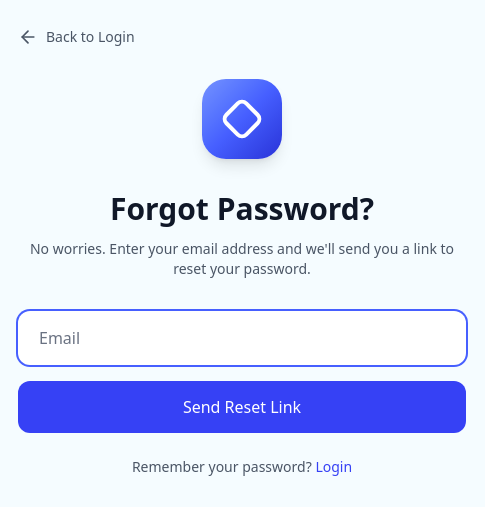
Test case: Forgot password: the form › shows the server’s reason when the request fails
The image size is (485, 507).
Type "coach@example.com" into the field named "Email address".
click(242, 338); type("coach@example.com")  # box [18, 311, 466, 365]
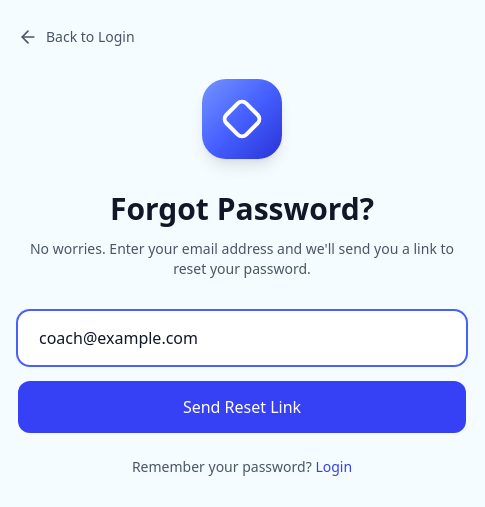
Click the button "Send Reset Link".
click(242, 407)  # box [18, 381, 466, 433]
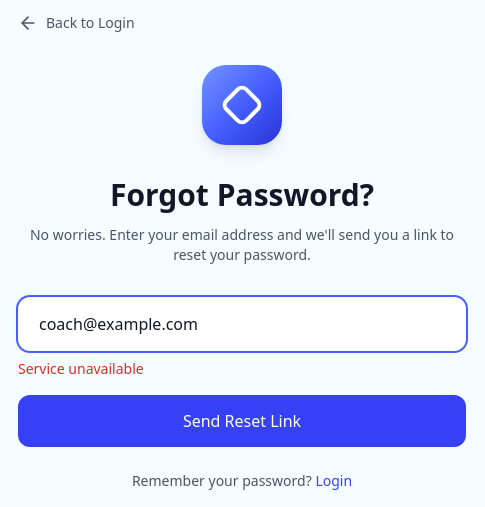
Check: the message reads "Service unavailable", box [18, 359, 144, 378]
